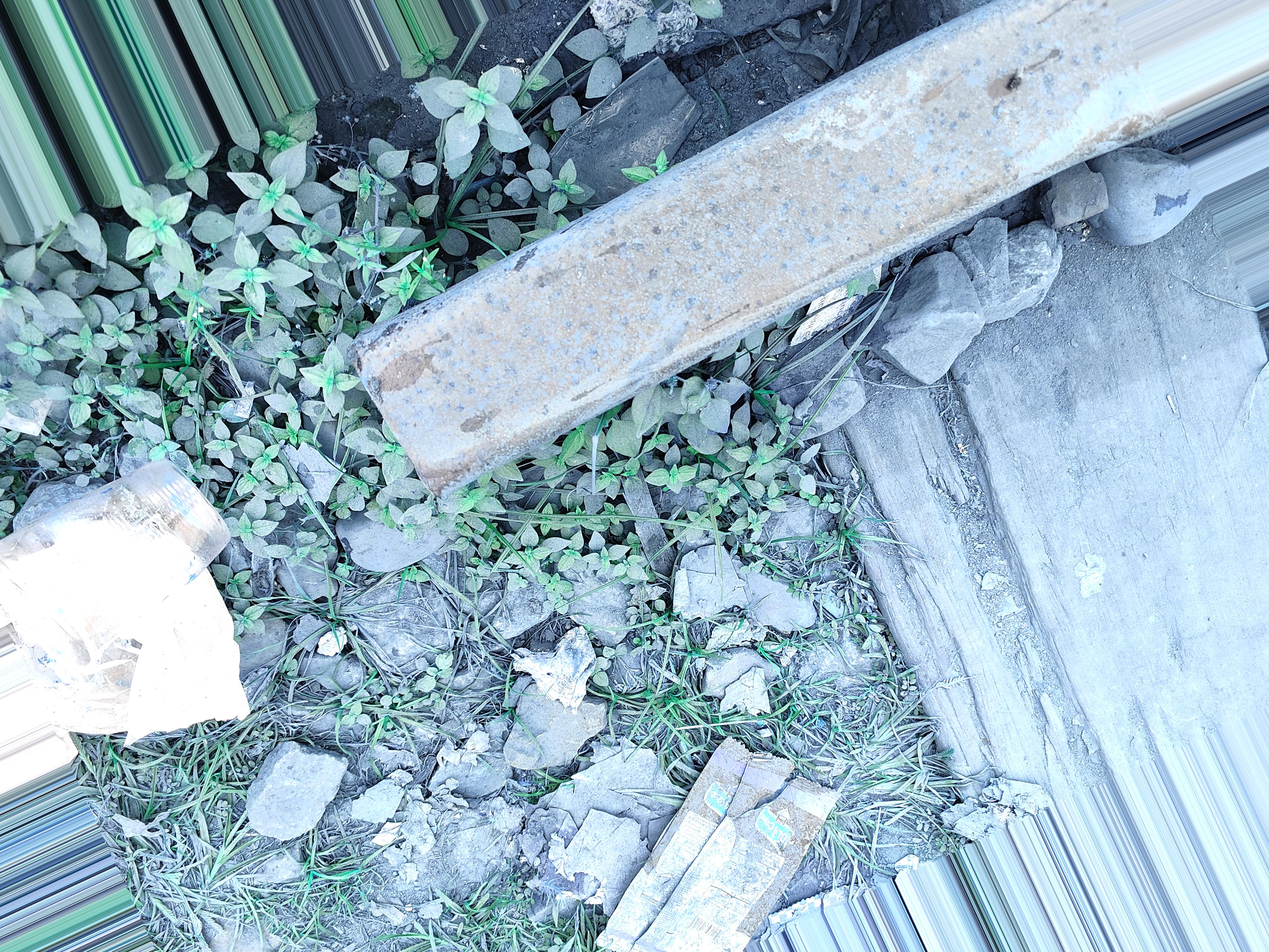tracks_fault: (19, 286, 585, 505)
